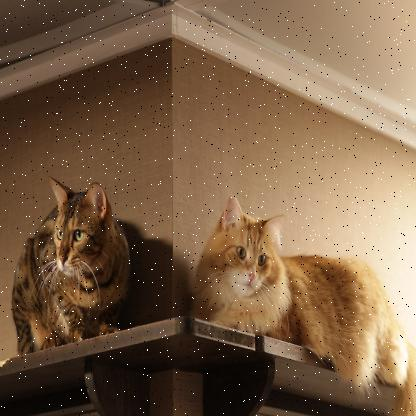cat: (192, 189, 415, 387), (9, 172, 134, 354)
